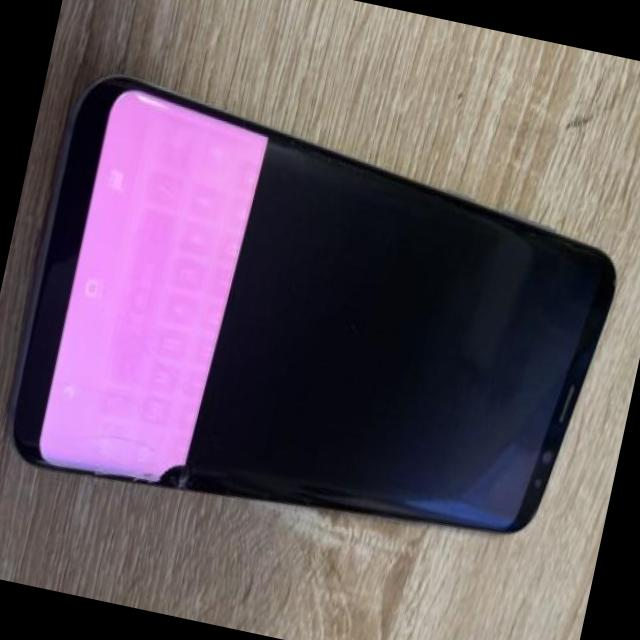dead pixel: (146, 442, 197, 508)
